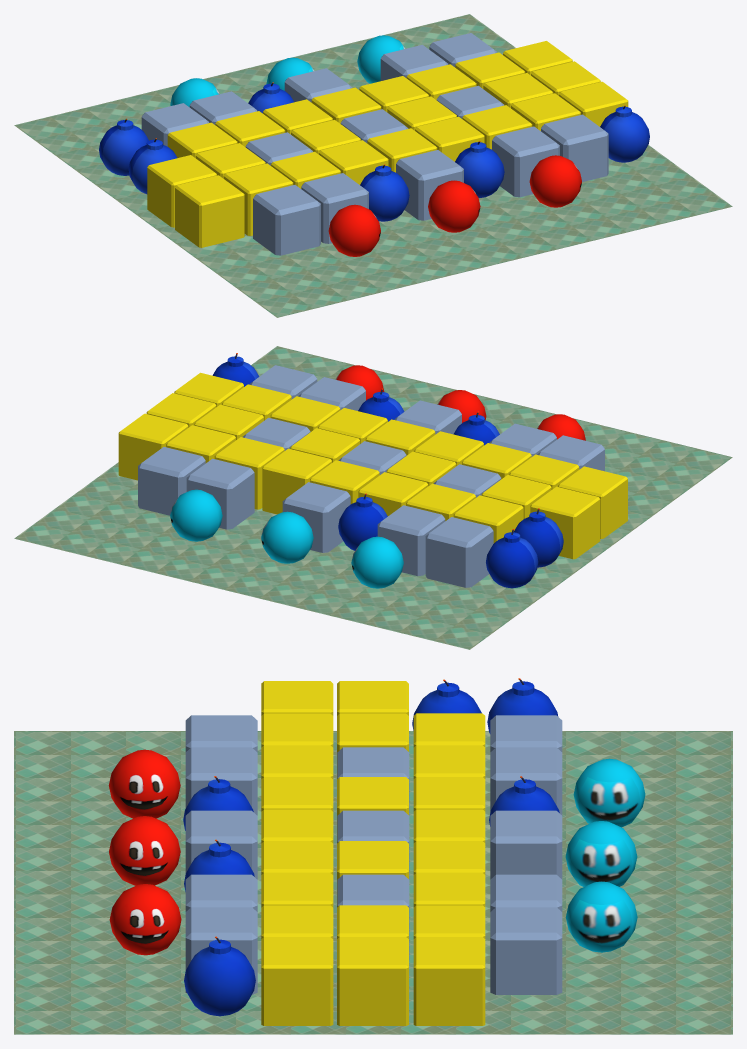
The model's file is minbo_ani.fbx.
The picture shows the model from 3 angles, top to bottom: view 1: azimuth 30°, elevation 25°; view 2: azimuth 150°, elevation 25°; view 3: azimuth 270°, elevation 25°; orthographic projection. The views are drawn at different scales.
Parts seen in each view (by area): view 1: Plane, Glass.011, Brick.010, Brick.012, Brick.008, Brick.002, Glass.021, minbo_R1, minbo_R3, minbo_R2, Brick.005, Sphere.002 (+37 smaller); view 2: Plane, Brick.009, Glass.021, Brick.011, Brick.007, Brick.001, Brick.004, Glass.001, Glass.013, Glass.011, Sphere.006, minbo_B3 (+37 smaller); view 3: Plane, Glass.013, Glass.016, Glass.023, Brick.011, Brick.001, Sphere.002, minbo_R3, minbo_B2, minbo_R1, minbo_R2, minbo_B3 (+37 smaller).
Boxes of the visible parts, left/top/right/bottom form: Plane: left=14, top=14, right=732, bottom=317; Glass.011: left=175, top=175, right=244, bottom=247; Brick.010: left=253, top=185, right=320, bottom=255; Brick.012: left=541, top=114, right=608, bottom=181; Brick.008: left=492, top=126, right=559, bottom=197; Brick.002: left=396, top=150, right=463, bottom=220; Glass.021: left=147, top=155, right=216, bottom=227; minbo_R1: left=428, top=180, right=480, bottom=232; minbo_R3: left=529, top=155, right=581, bottom=207; minbo_R2: left=328, top=204, right=380, bottom=256; Brick.005: left=301, top=173, right=368, bottom=243; Sphere.002: left=600, top=105, right=649, bottom=162; Plane: left=14, top=346, right=732, bottom=649; Brick.009: left=425, top=517, right=493, bottom=587; Glass.021: left=530, top=486, right=600, bottom=559; Brick.011: left=138, top=447, right=205, bottom=515; Brick.007: left=186, top=458, right=254, bottom=529; Brick.001: left=282, top=482, right=350, bottom=552; Brick.004: left=377, top=505, right=445, bottom=576; Glass.001: left=262, top=448, right=331, bottom=514; Glass.013: left=118, top=413, right=188, bottom=480; Glass.011: left=558, top=466, right=627, bottom=538; Sphere.006: left=486, top=529, right=538, bottom=588; minbo_B3: left=351, top=536, right=403, bottom=588; Plane: left=14, top=731, right=732, bottom=1034; Glass.013: left=413, top=937, right=485, bottom=1025; Glass.016: left=261, top=937, right=333, bottom=1025; Glass.023: left=337, top=937, right=408, bottom=1025; Brick.011: left=490, top=907, right=562, bottom=994; Brick.001: left=490, top=810, right=562, bottom=879; Sphere.002: left=184, top=936, right=255, bottom=1016; minbo_R3: left=109, top=884, right=181, bottom=955; minbo_B2: left=565, top=881, right=637, bottom=952; minbo_R1: left=109, top=816, right=180, bottom=885; minbo_R2: left=108, top=749, right=180, bottom=818; minbo_B3: left=573, top=758, right=645, bottom=827.
Bounding box in the file's own units: 500 × 61.81 × 500.
Materials: 6 (4 with a texture image).
